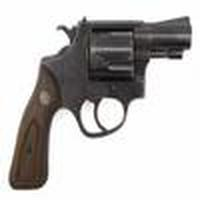gun: (1, 13, 193, 189)
